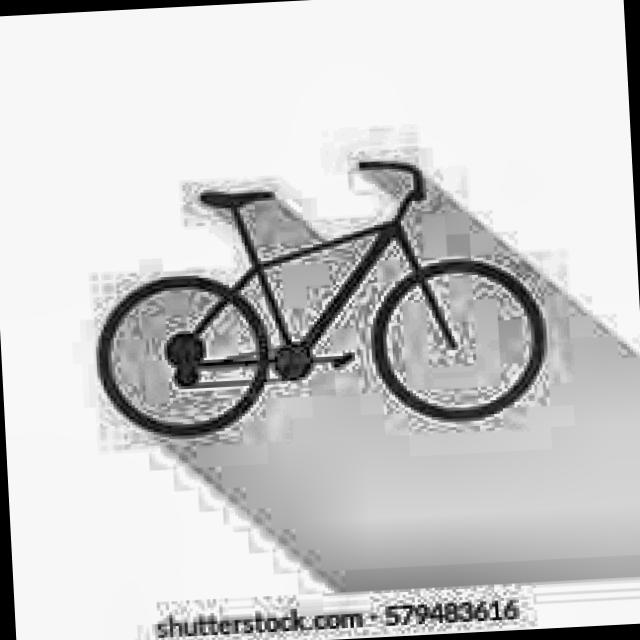bicycle: (76, 143, 561, 449)
